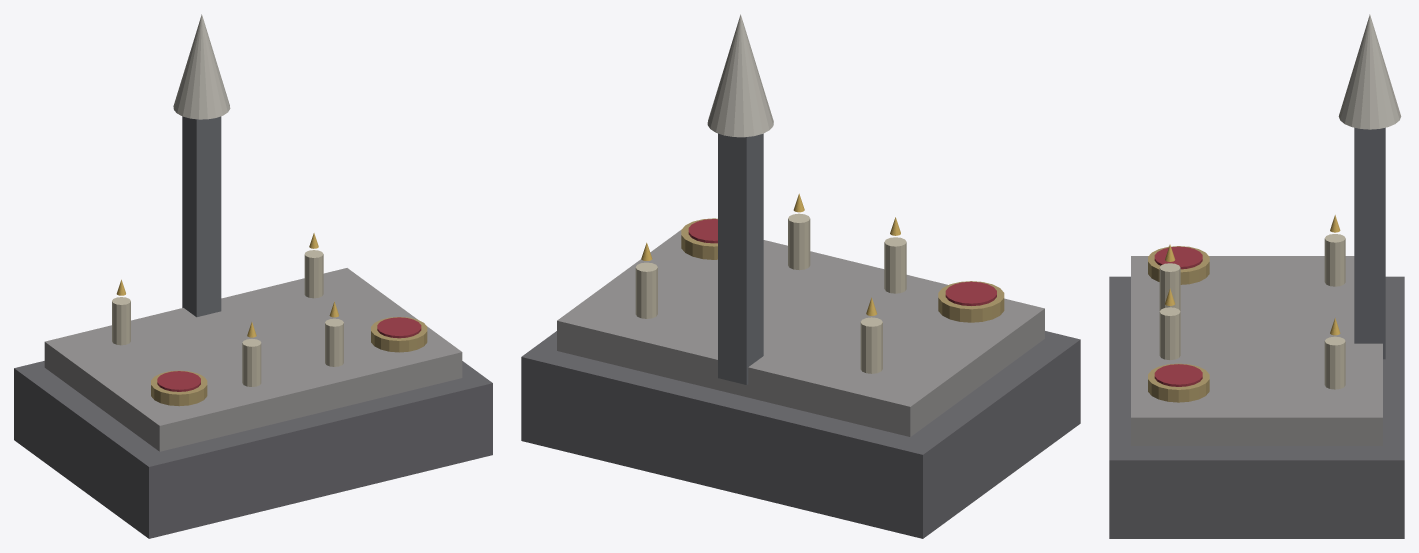
Rendered from Ritual_Altar.glb.
3 views of the same model, side by side, from view 1: azimuth 30°, elevation 25°; view 2: azimuth 150°, elevation 25°; view 3: azimuth 270°, elevation 25° (orthographic). The views are drawn at different scales.
Parts seen in each view (by area): view 1: Base, Top, Back_Spike, Sacrifice_Spike, Bowl_-0.8, Bowl_0.8, Candle_1, Candle_2, Candle_0, Candle_3, Blood_0.8, Blood_-0.8; view 2: Base, Top, Back_Spike, Sacrifice_Spike, Bowl_-0.8, Candle_0, Candle_2, Candle_1, Candle_3, Blood_-0.8, Bowl_0.8; view 3: Top, Base, Back_Spike, Sacrifice_Spike, Bowl_0.8, Candle_1, Candle_3, Candle_0, Bowl_-0.8, Blood_0.8, Candle_2, Blood_-0.8.
Boxes of the visible parts, x1,y1,x2,y2 form: Base: [14, 361, 492, 538]; Top: [44, 268, 462, 451]; Back_Spike: [182, 116, 221, 317]; Sacrifice_Spike: [173, 14, 230, 119]; Bowl_-0.8: [151, 370, 207, 406]; Bowl_0.8: [371, 317, 427, 352]; Candle_1: [304, 250, 323, 298]; Candle_2: [242, 339, 261, 386]; Candle_0: [112, 297, 130, 345]; Candle_3: [325, 318, 343, 366]; Blood_0.8: [377, 317, 421, 338]; Blood_-0.8: [157, 371, 200, 391]; Base: [521, 331, 1080, 538]; Top: [557, 230, 1044, 436]; Back_Spike: [718, 133, 763, 384]; Sacrifice_Spike: [707, 14, 773, 137]; Bowl_-0.8: [938, 281, 1004, 322]; Candle_0: [860, 317, 882, 373]; Candle_2: [884, 237, 906, 293]; Candle_1: [635, 262, 657, 318]; Candle_3: [788, 213, 810, 269]; Blood_-0.8: [945, 281, 996, 305]; Bowl_0.8: [681, 218, 717, 259]; Top: [1131, 256, 1382, 445]; Base: [1109, 276, 1404, 538]; Back_Spike: [1354, 127, 1385, 359]; Sacrifice_Spike: [1338, 14, 1401, 129]; Bowl_0.8: [1148, 363, 1209, 402]; Candle_1: [1324, 336, 1345, 389]; Candle_3: [1159, 307, 1180, 359]; Candle_0: [1324, 234, 1345, 286]; Bowl_-0.8: [1148, 246, 1209, 284]; Blood_0.8: [1154, 364, 1202, 386]; Candle_2: [1159, 263, 1180, 311]; Blood_-0.8: [1154, 246, 1202, 269].
Bounding box in the file's own units: 2.5 × 2.75 × 1.7.
